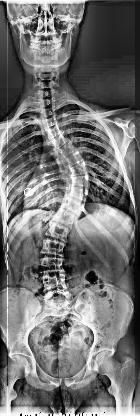Vertebrae: (40, 236, 66, 258), (41, 271, 68, 292), (45, 223, 71, 244), (38, 255, 68, 273), (52, 210, 76, 230), (62, 197, 85, 216), (55, 140, 79, 158), (49, 132, 69, 150), (64, 150, 84, 168), (66, 186, 88, 202), (42, 124, 62, 140), (70, 162, 88, 178), (38, 116, 58, 130), (38, 108, 58, 120), (70, 176, 90, 188), (38, 98, 56, 108)
